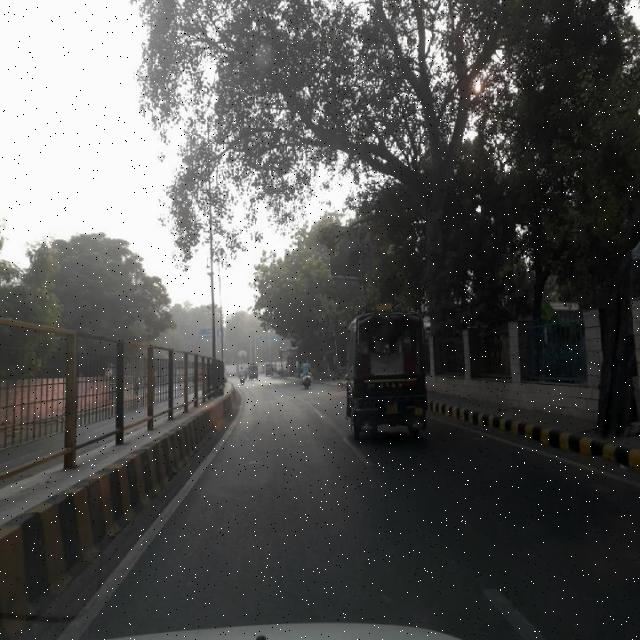D20: (79, 337, 535, 636)
